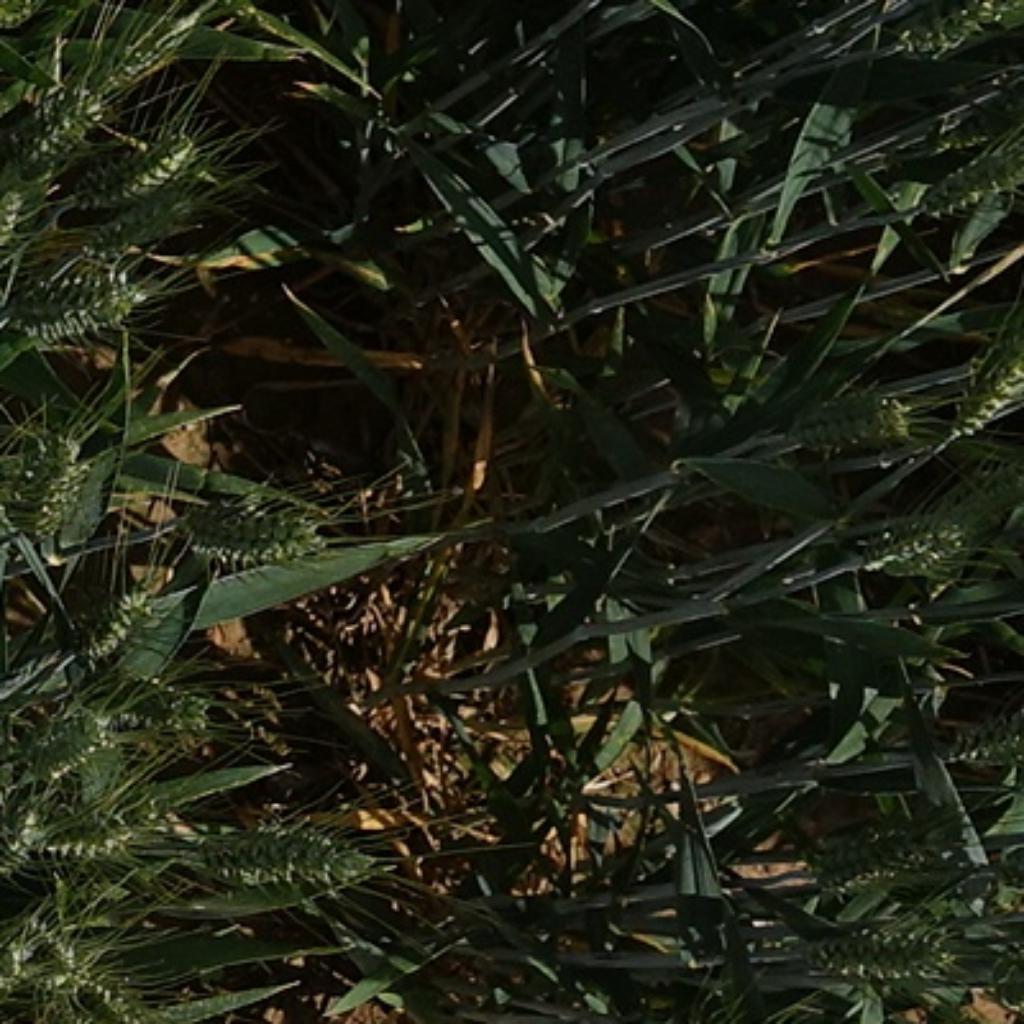0-0: (166, 806, 381, 903), (800, 782, 966, 893), (4, 256, 160, 361), (803, 906, 960, 985), (773, 373, 911, 460), (1, 416, 84, 558), (857, 496, 990, 578), (926, 356, 1024, 467), (894, 0, 1021, 83), (0, 913, 104, 1013), (911, 138, 1024, 230), (179, 503, 342, 566), (76, 576, 178, 676), (74, 191, 199, 269), (85, 13, 189, 106), (113, 676, 243, 750), (10, 84, 111, 179), (37, 710, 147, 794), (102, 134, 197, 216), (926, 701, 1023, 778), (47, 806, 149, 868), (51, 975, 168, 1024), (0, 801, 48, 888), (0, 168, 28, 286), (760, 1021, 862, 1024)
